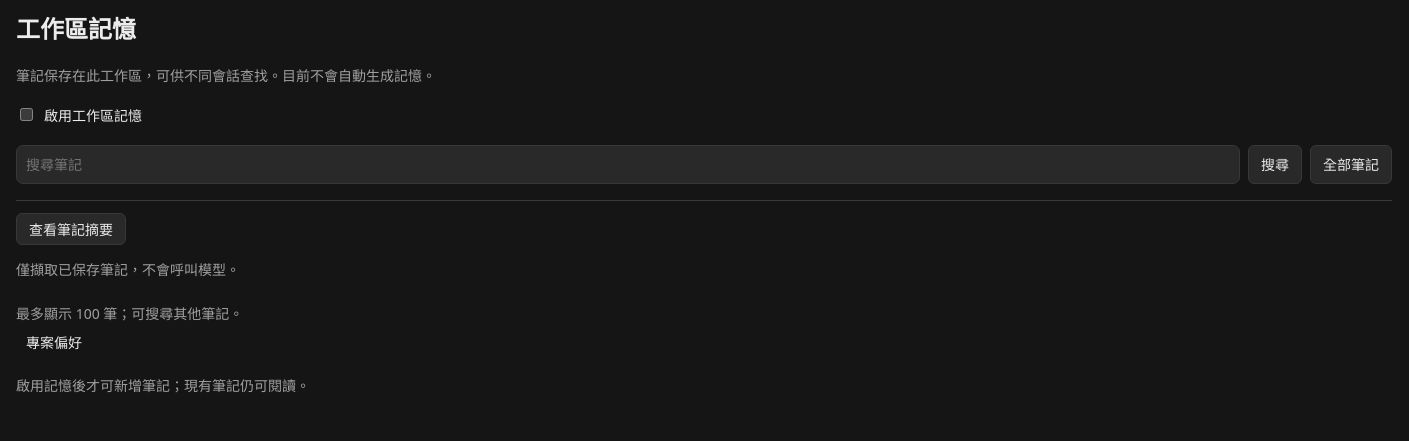
Test: workspace memory › reads an existing summary through the scoped memory endpoint
Expected: the button "專案偏好" is shown, 16,323 -> 692,361
Click the button "查看筆記摘要": click(71, 229) 16,213 -> 126,245
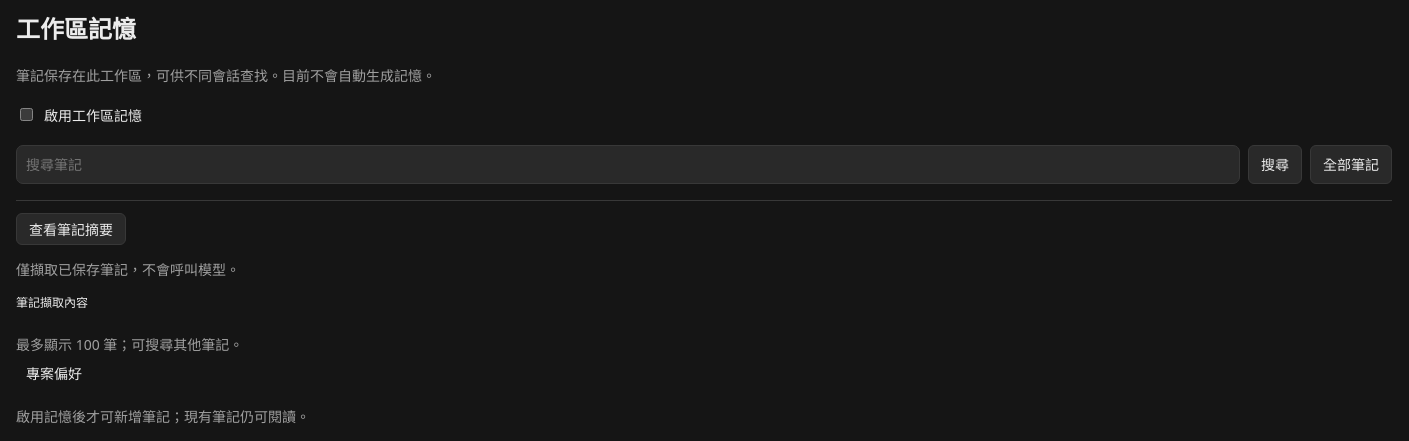
Expected: the text "筆記擷取內容" is shown, 16,296 -> 88,310
